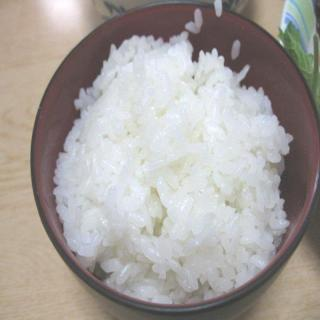Nasi: (51, 30, 296, 306)
